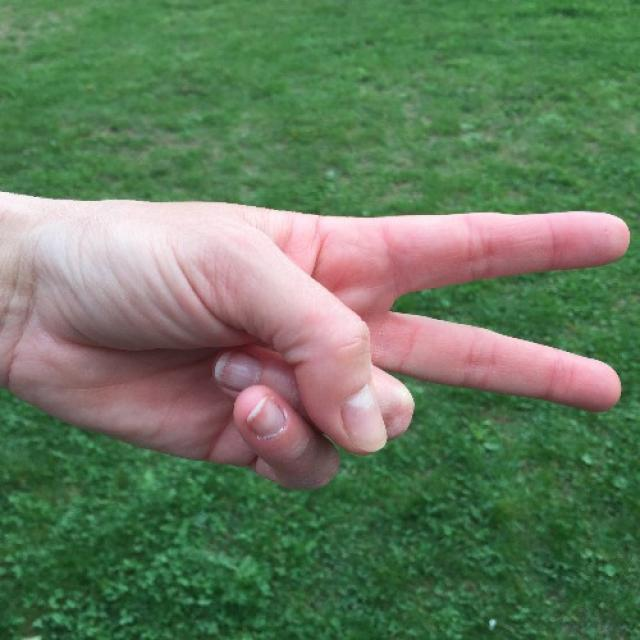scissors: (84, 199, 627, 482)
